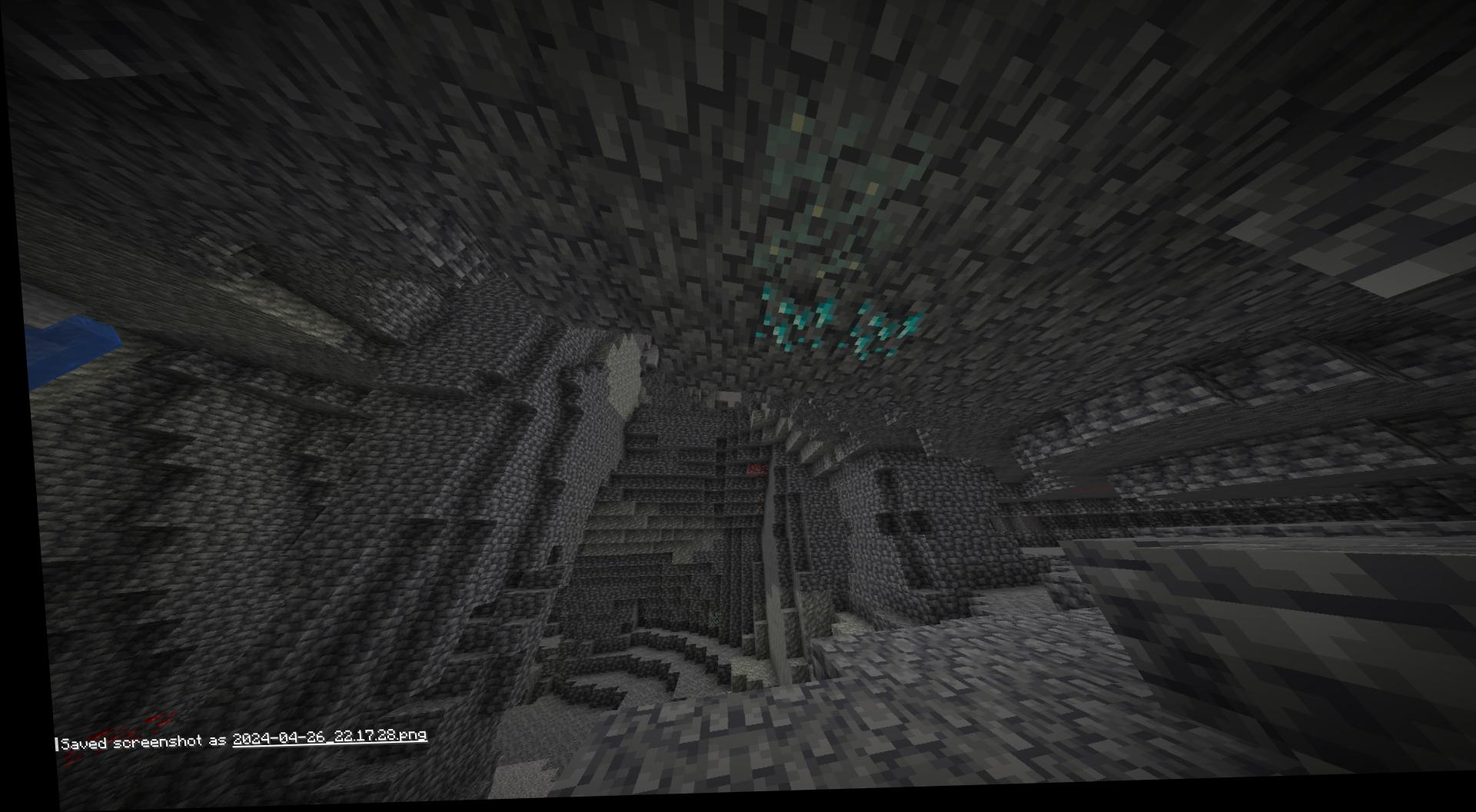diamond ore: (742, 280, 844, 365), (830, 302, 930, 374)
redstone ore: (52, 712, 164, 760), (737, 468, 766, 482)
